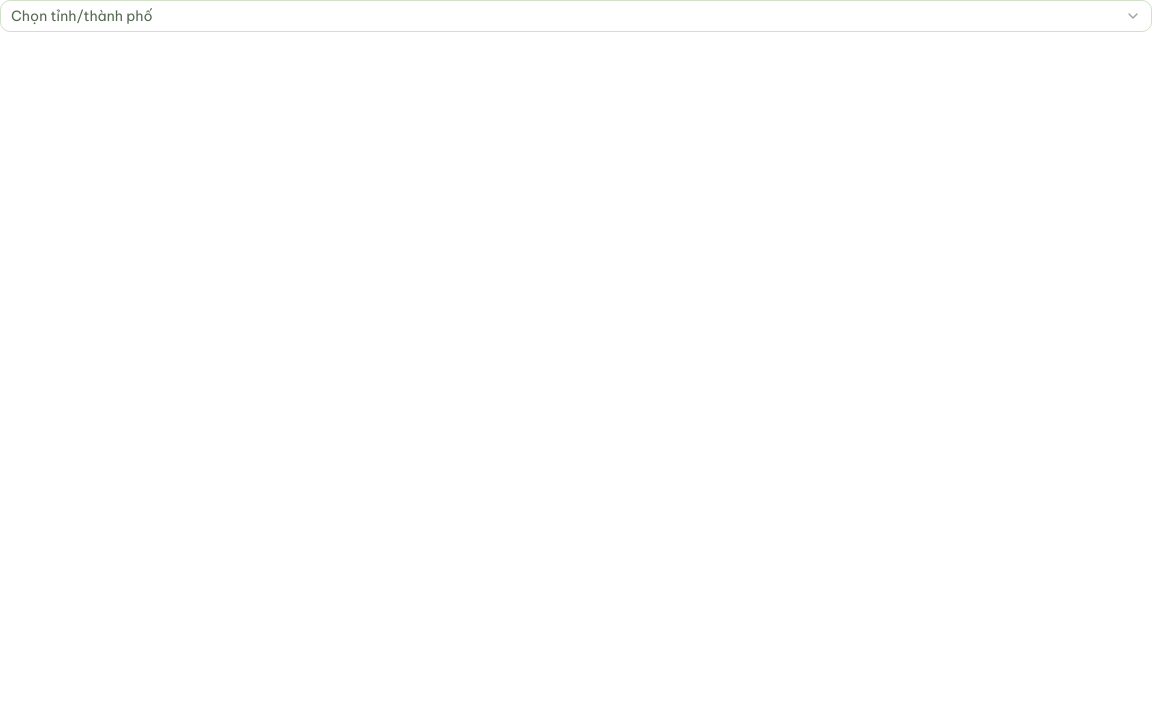
filters options as the user types and keeps activedescendant on the filtered list
Later steps or results of the test are not shown.
Click the button "Chọn tỉnh/thành phố": (82, 16) [0,0,1151,32]
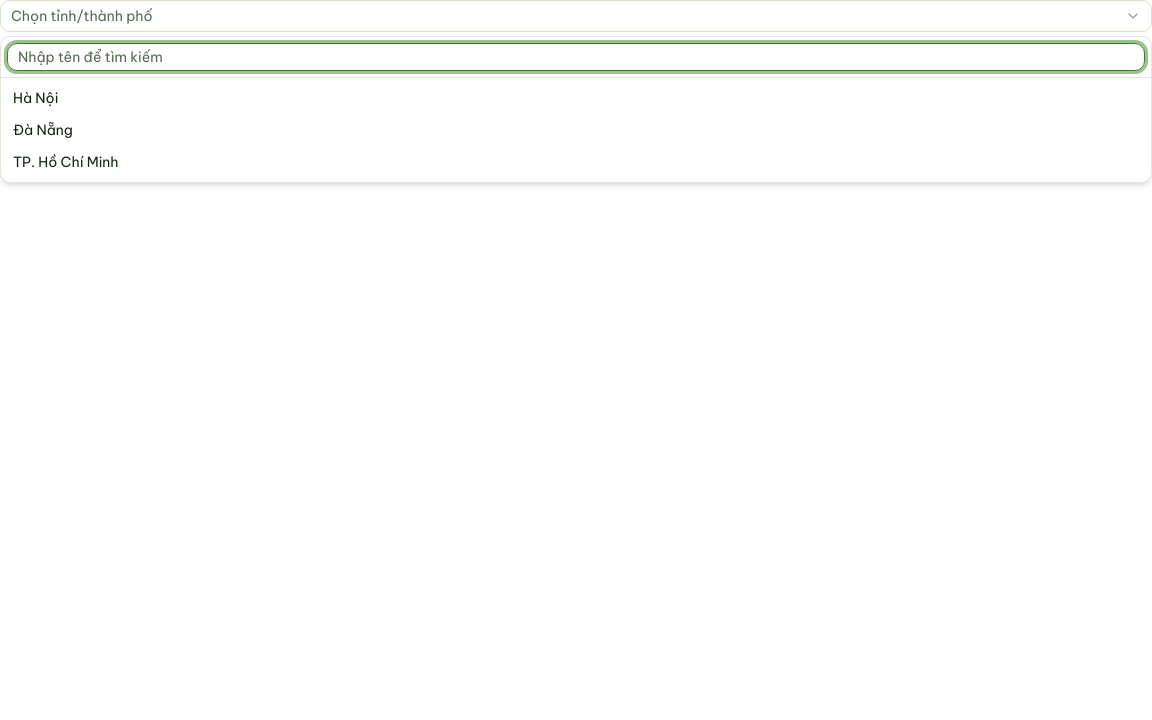
In the dropdown: (576, 57) [7,43,1145,71], type "Đà N"
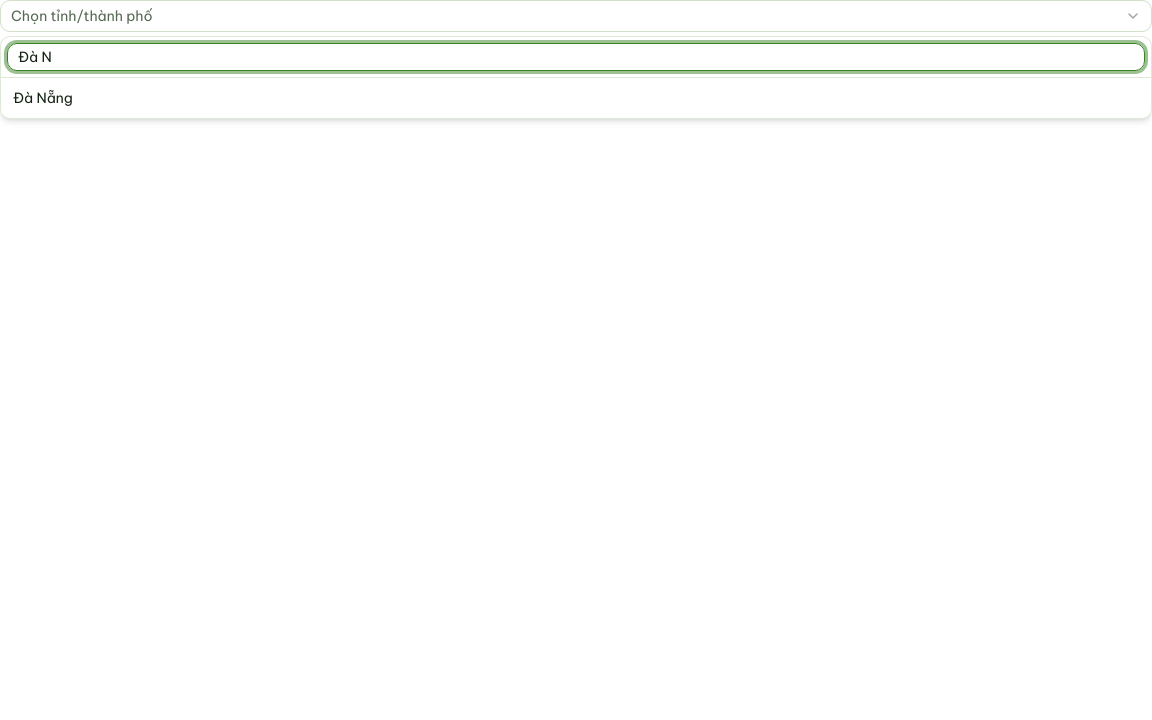
Now the option reads "Đà Nẵng", box [5,82,1147,114]
Now the number of options is 1, box [5,82,1147,114]
